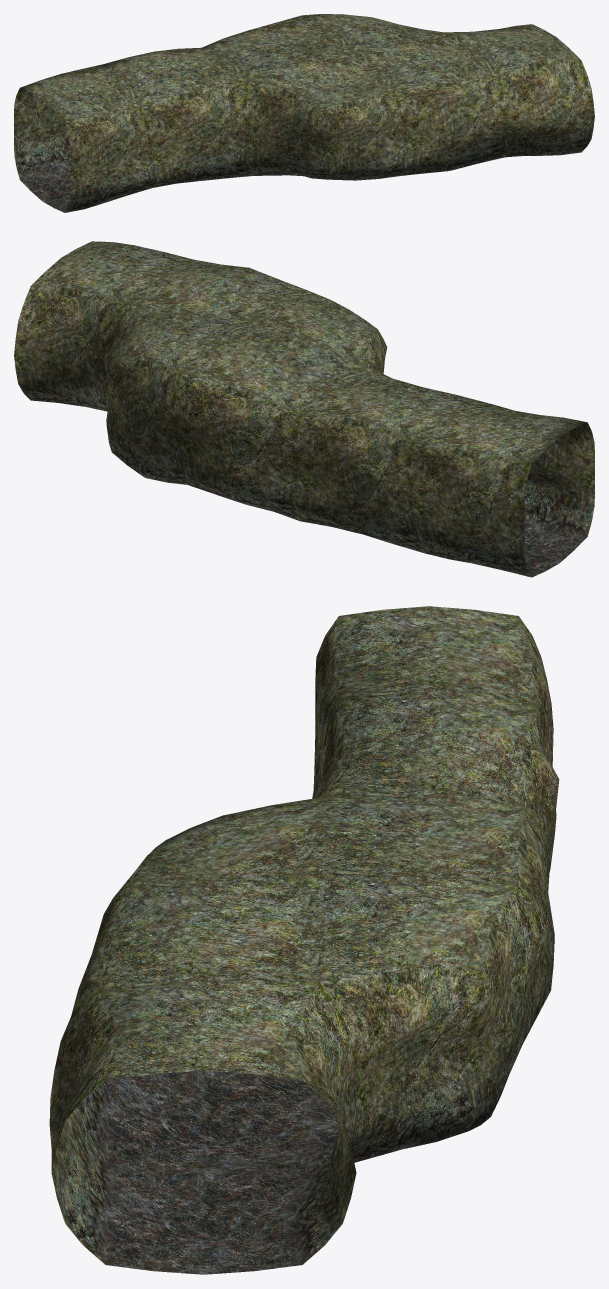
The model's file is thm_all_cave_s03_damprock_mirror_r3_r3.fbx.
3 views of the same model, one above another, from view 1: azimuth 30°, elevation 25°; view 2: azimuth 150°, elevation 25°; view 3: azimuth 270°, elevation 25° (orthographic). The views are drawn at different scales.
Parts seen in each view (by area): view 1: mesh_node; view 2: mesh_node; view 3: mesh_node.
Boxes of the visible parts, x1=… form: mesh_node: x1=14, y1=14, x2=594, y2=212; mesh_node: x1=14, y1=241, x2=594, y2=577; mesh_node: x1=49, y1=606, x2=559, y2=1274.
Size of the model in its own units: 37.27 by 8.92 by 17.95.
